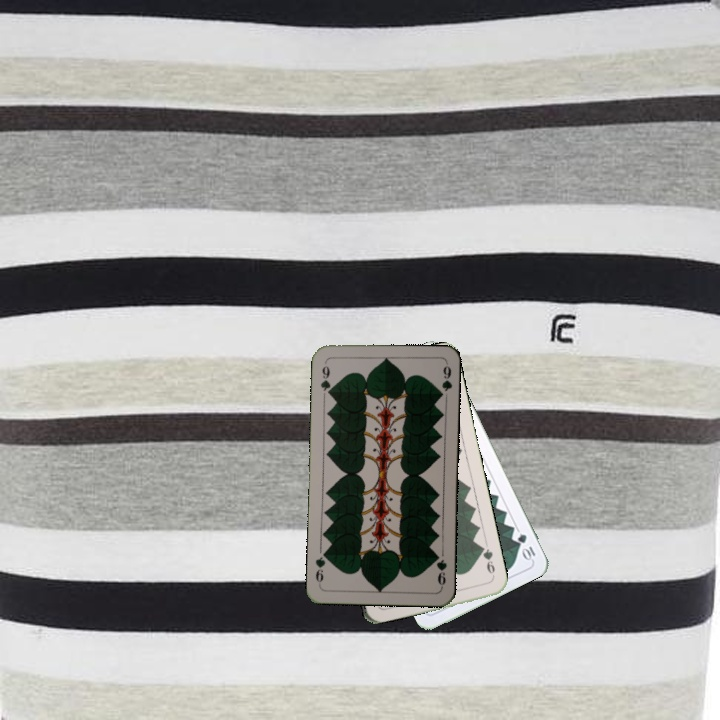G10: (513, 530, 538, 563)
G9: (476, 542, 497, 582), (431, 549, 449, 590), (317, 362, 334, 399)
